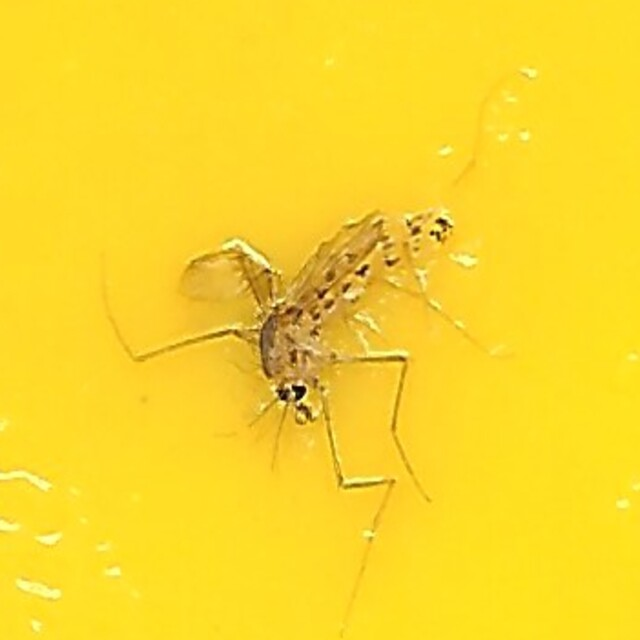Nematocera: (182, 203, 458, 437)
